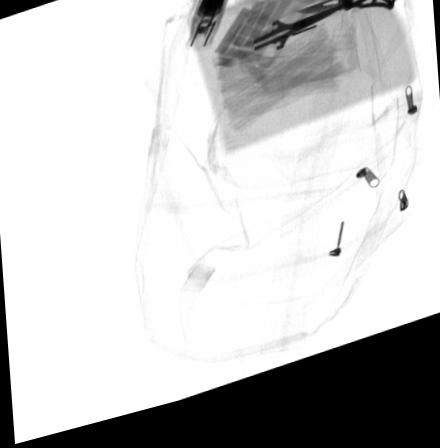Knife: (292, 11, 394, 31)
Scissors: (230, 20, 349, 88)
